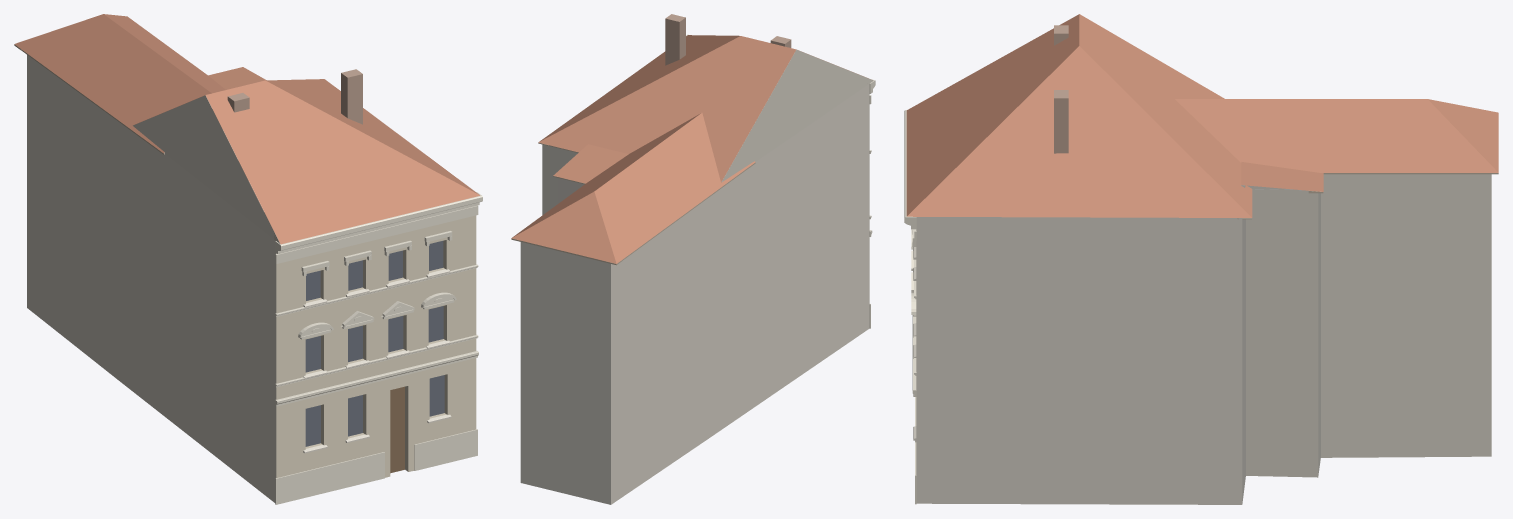
The picture shows the model from 3 angles, left to right: view 1: azimuth 30°, elevation 25°; view 2: azimuth 150°, elevation 25°; view 3: azimuth 270°, elevation 25°; orthographic projection. The views are drawn at different scales.
Parts seen in each view (by area): view 1: CP_416_Masonry, CP_416_Roof, CP_416_WingRoof_RearWing, CP_416_Gable_L_gable, CP_416_Cornice_plinth_0, CP_416_Cornice_frieze_0, CP_416_Cornice_main_0, CP_416_Cornice_plinth_1, CP_416_Cornice_string_0, CP_416_Chimney_1, CP_416_WingRoof_Stair, CP_416_Cornice_band_0 (+1 smaller); view 2: CP_416_Masonry, CP_416_Roof, CP_416_WingRoof_RearWing, CP_416_Gable_L_gable, CP_416_WingRoof_Stair, CP_416_Chimney_1; view 3: CP_416_Masonry, CP_416_Roof, CP_416_WingRoof_RearWing, CP_416_WingRoof_Stair, CP_416_Chimney_1.
Part boxes in pixels (x1,y1,x2,y2): CP_416_Masonry: [27, 55, 476, 502]; CP_416_Roof: [135, 79, 479, 244]; CP_416_WingRoof_RearWing: [14, 14, 225, 153]; CP_416_Gable_L_gable: [133, 95, 280, 243]; CP_416_Cornice_plinth_0: [275, 452, 384, 504]; CP_416_Cornice_frieze_0: [275, 205, 478, 263]; CP_416_Cornice_main_0: [275, 192, 482, 253]; CP_416_Cornice_plinth_1: [414, 429, 477, 470]; CP_416_Cornice_string_0: [275, 351, 478, 406]; CP_416_Chimney_1: [341, 69, 362, 124]; CP_416_WingRoof_Stair: [208, 67, 266, 89]; CP_416_Cornice_band_0: [275, 264, 478, 316]; CP_416_Masonry: [520, 84, 869, 504]; CP_416_Roof: [538, 35, 868, 182]; CP_416_WingRoof_RearWing: [511, 113, 755, 263]; CP_416_Gable_L_gable: [721, 49, 873, 182]; CP_416_WingRoof_Stair: [553, 144, 628, 183]; CP_416_Chimney_1: [665, 14, 685, 65]; CP_416_Masonry: [916, 174, 1491, 504]; CP_416_Roof: [906, 14, 1252, 217]; CP_416_WingRoof_RearWing: [1175, 99, 1498, 172]; CP_416_WingRoof_Stair: [1241, 162, 1323, 191]; CP_416_Chimney_1: [1054, 90, 1068, 153].
Size of the model in its own units: 10.58 by 17.6 by 24.6.
